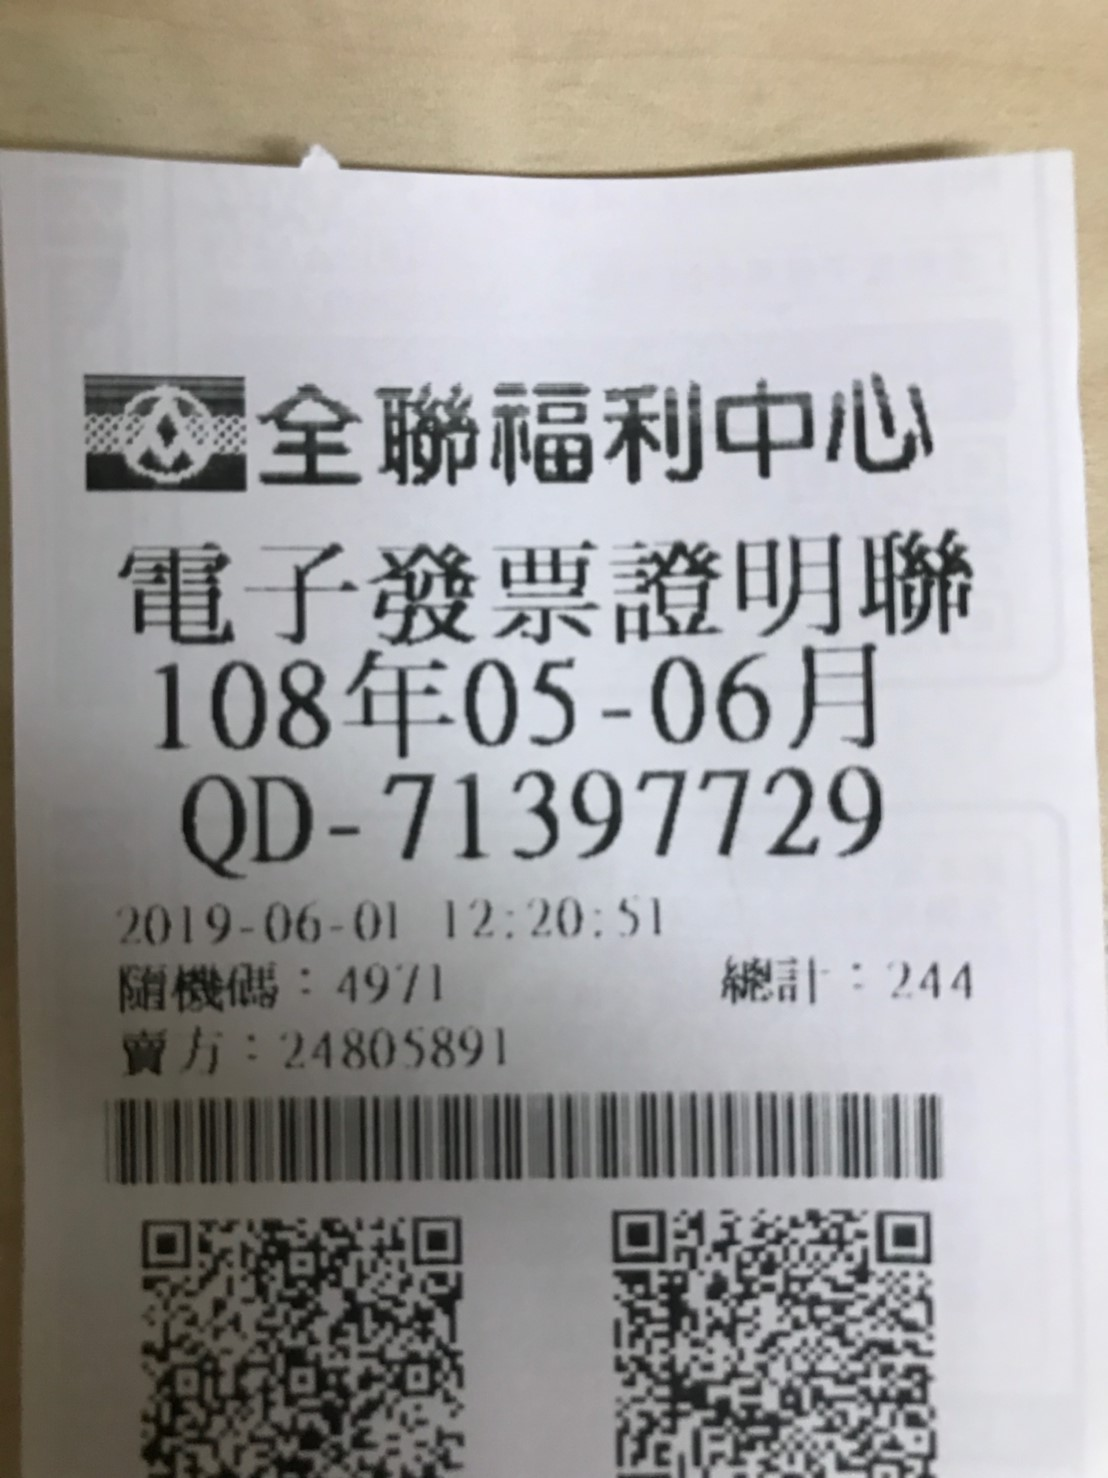Date_New: (149, 644, 881, 753)
Number_New: (382, 766, 887, 864)
